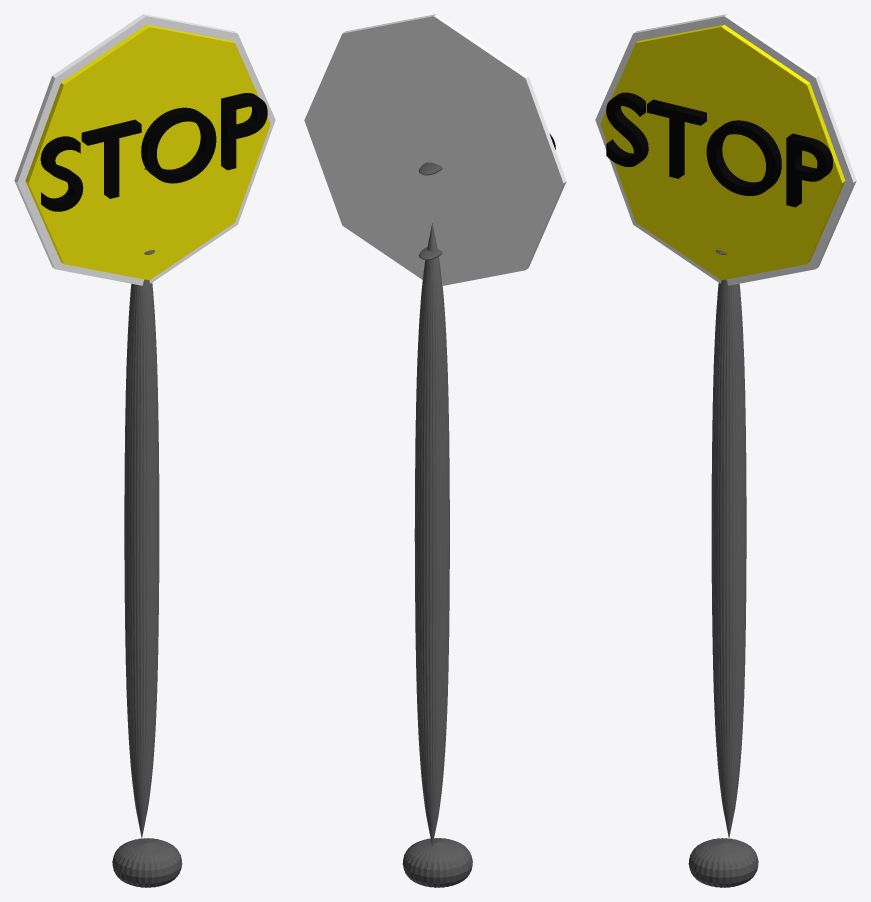
3 views of the same model, side by side, from view 1: azimuth 30°, elevation 25°; view 2: azimuth 150°, elevation 25°; view 3: azimuth 330°, elevation 25° (orthographic).
Parts seen in each view (by area): view 1: Cylinder.003, Cylinder.001, Text, Cylinder.002, Cylinder; view 2: Cylinder.002, Cylinder.001, Cylinder; view 3: Cylinder.003, Cylinder.001, Text, Cylinder.002, Cylinder.
Part boxes in pixels (bbox=[...]): Cylinder.003: bbox=[25, 24, 270, 280]; Cylinder.001: bbox=[124, 279, 159, 838]; Text: bbox=[40, 93, 267, 211]; Cylinder.002: bbox=[14, 14, 275, 285]; Cylinder: bbox=[112, 838, 182, 887]; Cylinder.002: bbox=[304, 14, 566, 285]; Cylinder.001: bbox=[414, 223, 449, 846]; Cylinder: bbox=[402, 838, 472, 887]; Cylinder.003: bbox=[600, 24, 845, 280]; Cylinder.001: bbox=[711, 279, 746, 838]; Text: bbox=[606, 92, 832, 207]; Cylinder.002: bbox=[595, 14, 856, 285]; Cylinder: bbox=[688, 838, 758, 887].
Size of the model in its own units: 0.96 by 3.08 by 0.2258.
